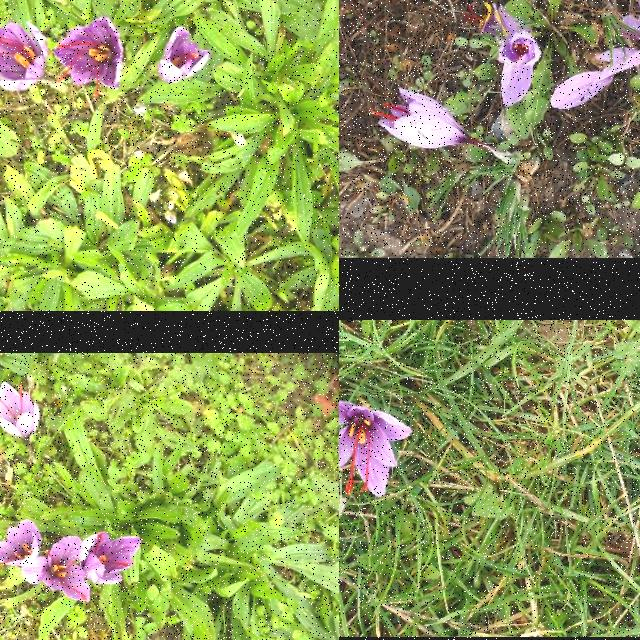flower: (339, 400, 413, 497), (370, 89, 470, 149), (50, 17, 124, 97), (24, 537, 90, 603), (498, 32, 542, 108), (0, 23, 49, 91), (80, 533, 142, 585), (160, 26, 212, 84), (0, 381, 40, 443), (0, 519, 43, 567)
